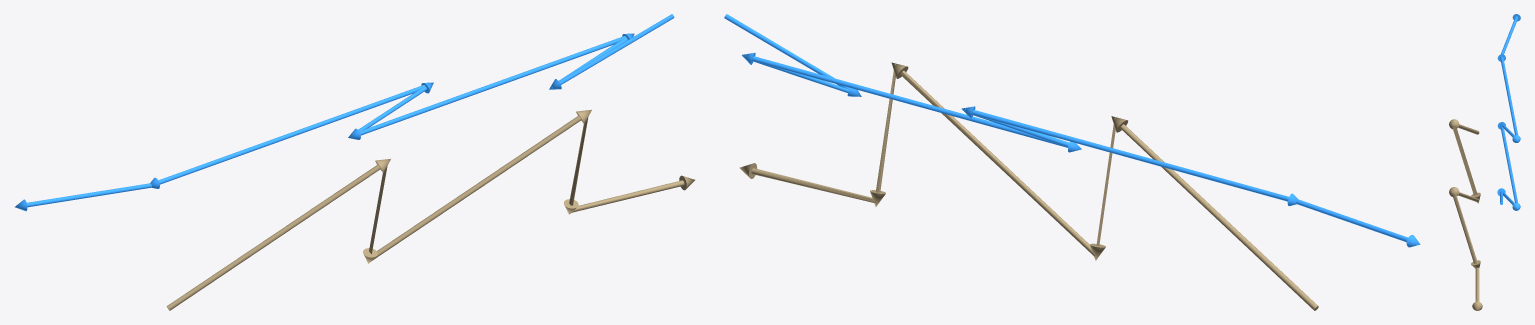
File: red_mud_washer_flow.glb
The picture shows the model from 3 angles, left to right: view 1: azimuth 30°, elevation 25°; view 2: azimuth 150°, elevation 25°; view 3: azimuth 270°, elevation 25°; orthographic projection. The views are drawn at different scales.
Visible parts, largest first — view 1: wash_liquor, mud; view 2: wash_liquor, mud; view 3: mud, wash_liquor.
Boxes of the visible parts, x1=… form: wash_liquor: x1=15, y1=14, x2=674, y2=211; mud: x1=166, y1=109, x2=694, y2=310; wash_liquor: x1=724, y1=14, x2=1420, y2=247; mud: x1=739, y1=62, x2=1318, y2=310; mud: x1=1449, y1=119, x2=1482, y2=310; wash_liquor: x1=1497, y1=14, x2=1520, y2=210.
Size of the model in its own units: 6.49 by 1.53 by 0.8958.
